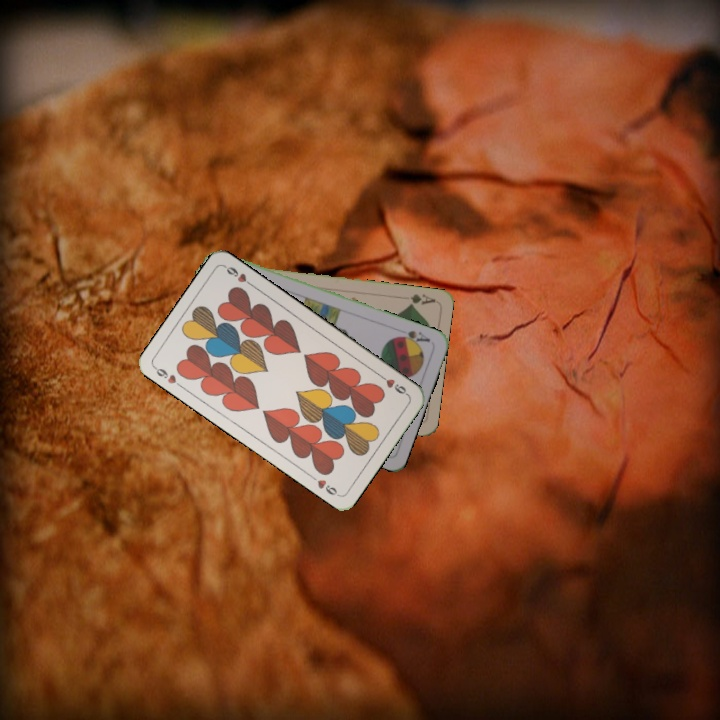GA: (405, 290, 438, 309)
H9: (375, 370, 411, 398), (151, 363, 186, 391)
SA: (392, 326, 433, 348)
